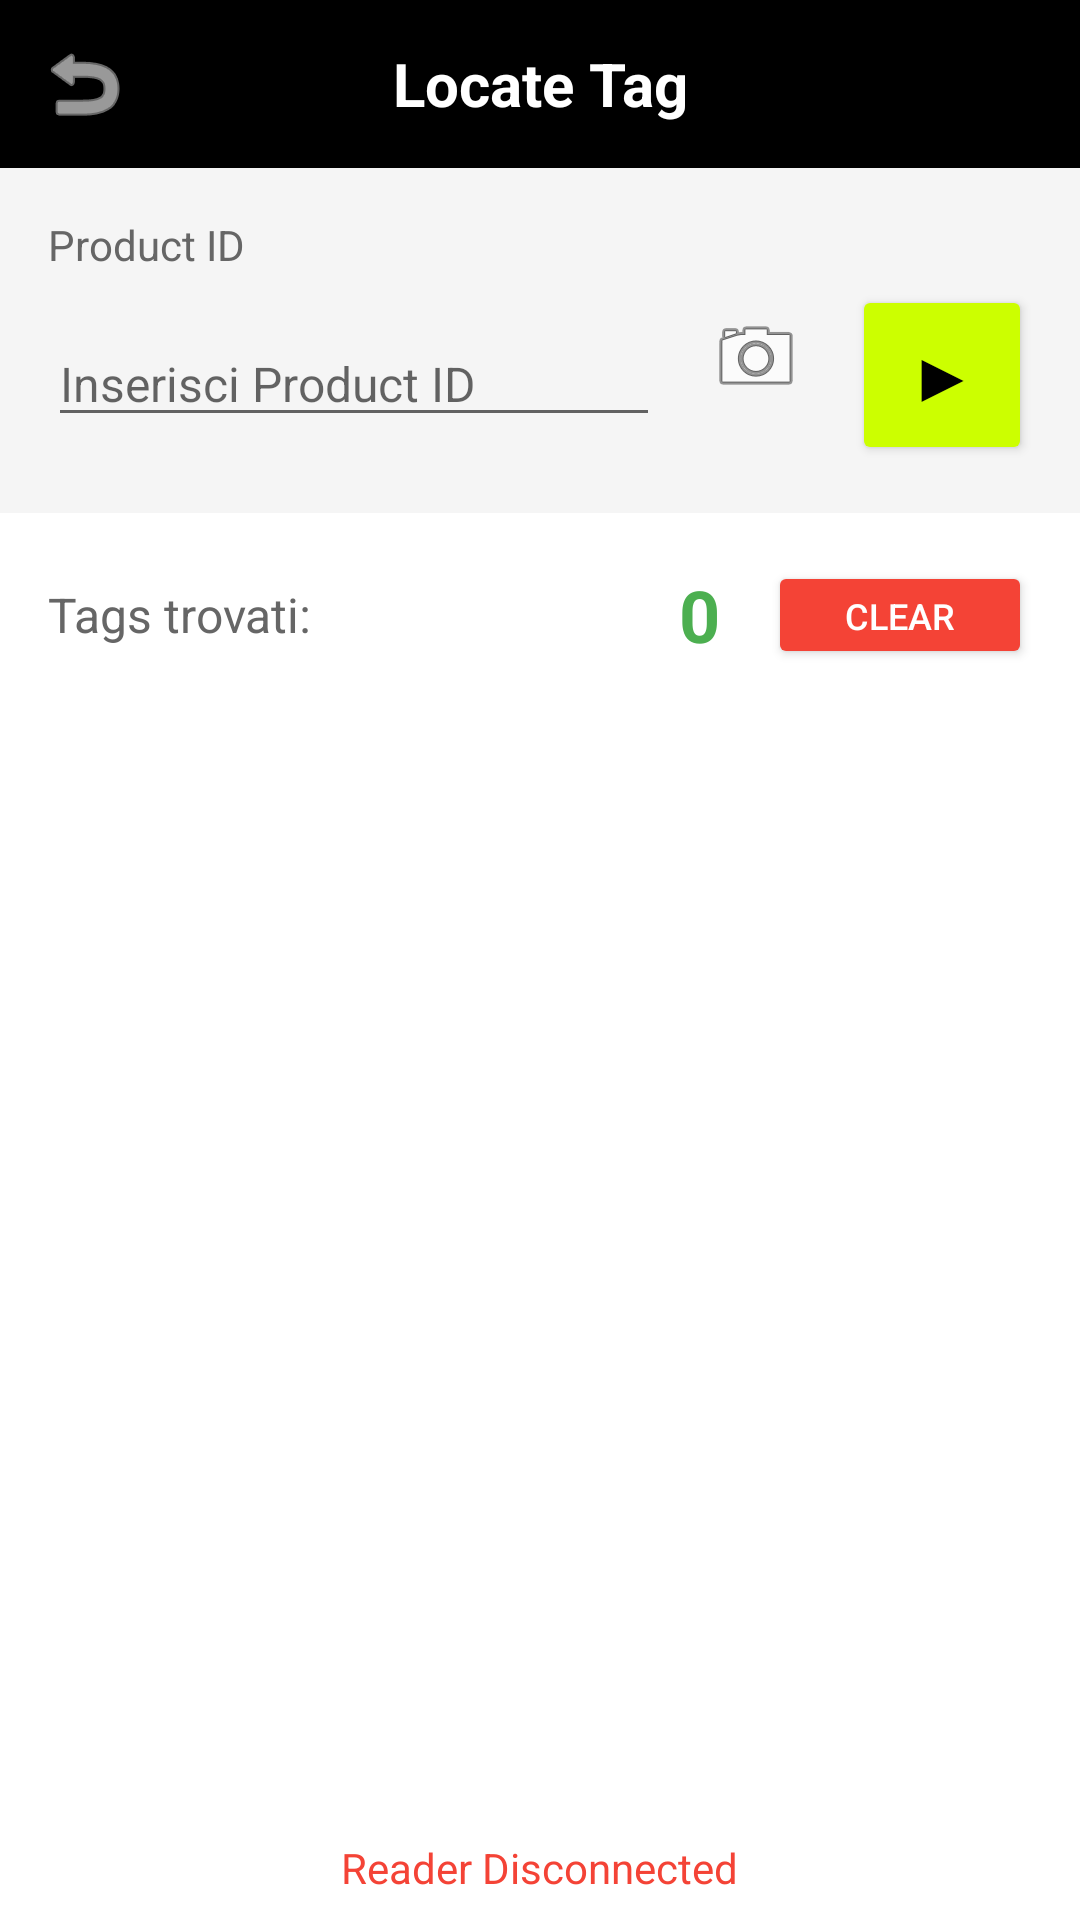

Named icons in this screenshot (1080 × 1920) and their bounding boxes, region(x1, y1, x2, y2):
Back: region(51, 53, 120, 116)
